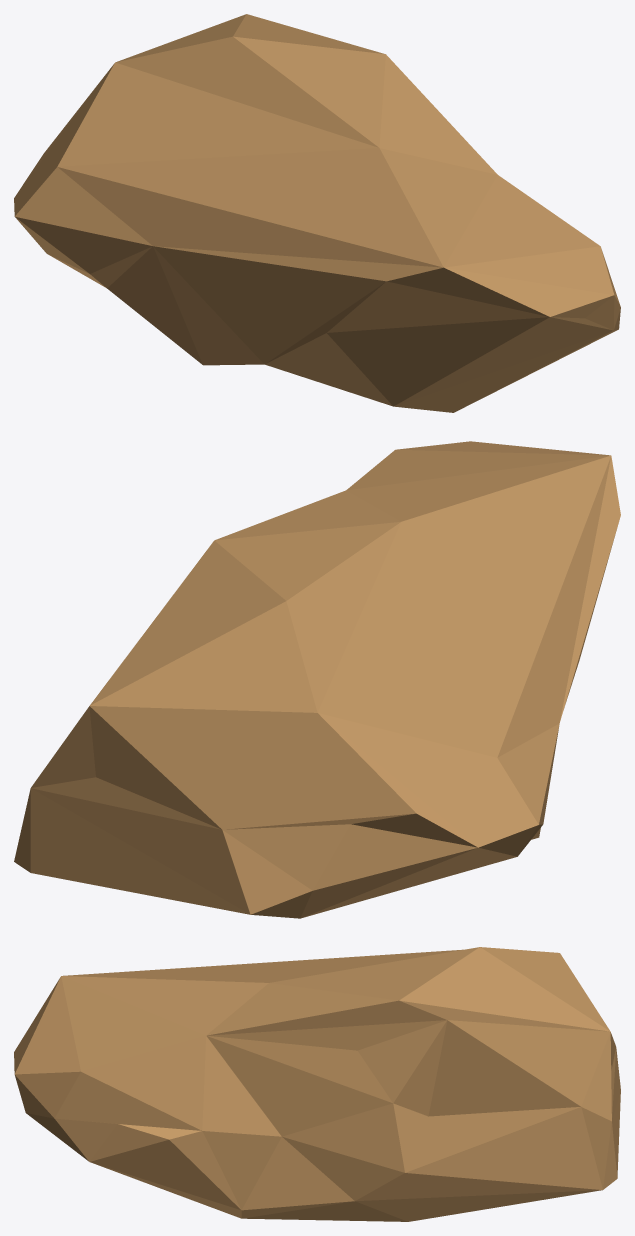
The model's file is SM_GLG_Rock_01_A.obj.
The picture shows the model from 3 angles, top to bottom: view 1: azimuth 30°, elevation 25°; view 2: azimuth 150°, elevation 25°; view 3: azimuth 270°, elevation 25°; orthographic projection. The views are drawn at different scales.
Visible parts, largest first — view 1: SM_GLG_Rock_01_A; view 2: SM_GLG_Rock_01_A; view 3: SM_GLG_Rock_01_A.
Boxes of the visible parts, x1,y1,x2,y2 form: SM_GLG_Rock_01_A: (14, 14, 620, 412); SM_GLG_Rock_01_A: (14, 441, 620, 918); SM_GLG_Rock_01_A: (14, 947, 620, 1221).
Size of the model in its own units: 150 by 100 by 237.
